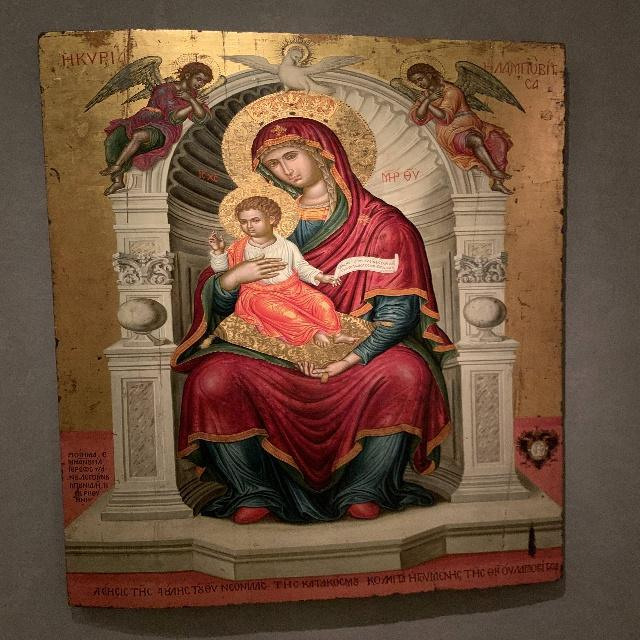angel: (71, 49, 223, 194), (390, 53, 528, 198)
aura: (222, 92, 377, 193), (220, 185, 302, 240), (173, 51, 221, 88), (399, 53, 444, 91), (280, 35, 317, 64)
christ_kid: (201, 180, 364, 364)
crown: (247, 92, 341, 123)
dove: (221, 40, 371, 96)
mary: (208, 78, 455, 406)
scroll: (330, 253, 404, 281)
wing: (88, 51, 166, 108), (455, 59, 525, 122)
